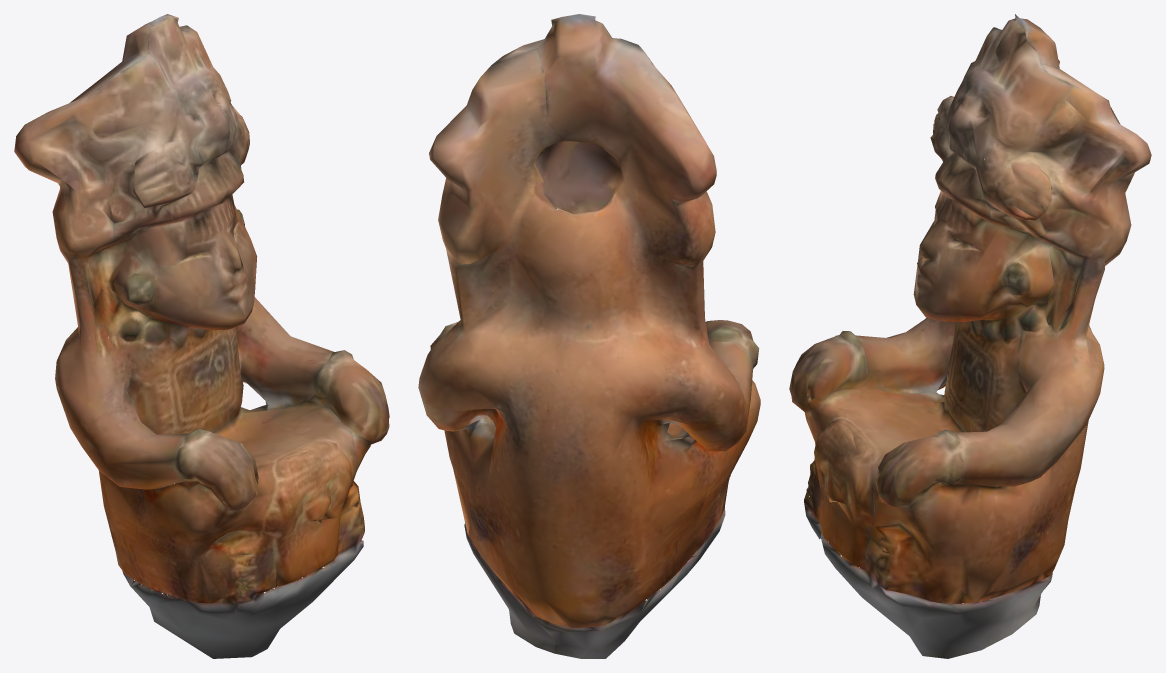
File: maya-statue-big.lod0.glb
3 renders of one model, left to right at view 1: azimuth 30°, elevation 25°; view 2: azimuth 150°, elevation 25°; view 3: azimuth 270°, elevation 25°, orthographic. The views are drawn at different scales.
Visible parts, largest first — view 1: Object_4; view 2: Object_4; view 3: Object_4.
Part boxes in pixels (x1,y1,x2,y2): Object_4: (14,14,389,658); Object_4: (418,14,760,658); Object_4: (789,14,1151,658).
Size of the model in its own units: 2.32 by 4.5 by 2.42.
Materials: 1 (1 with a texture image).
